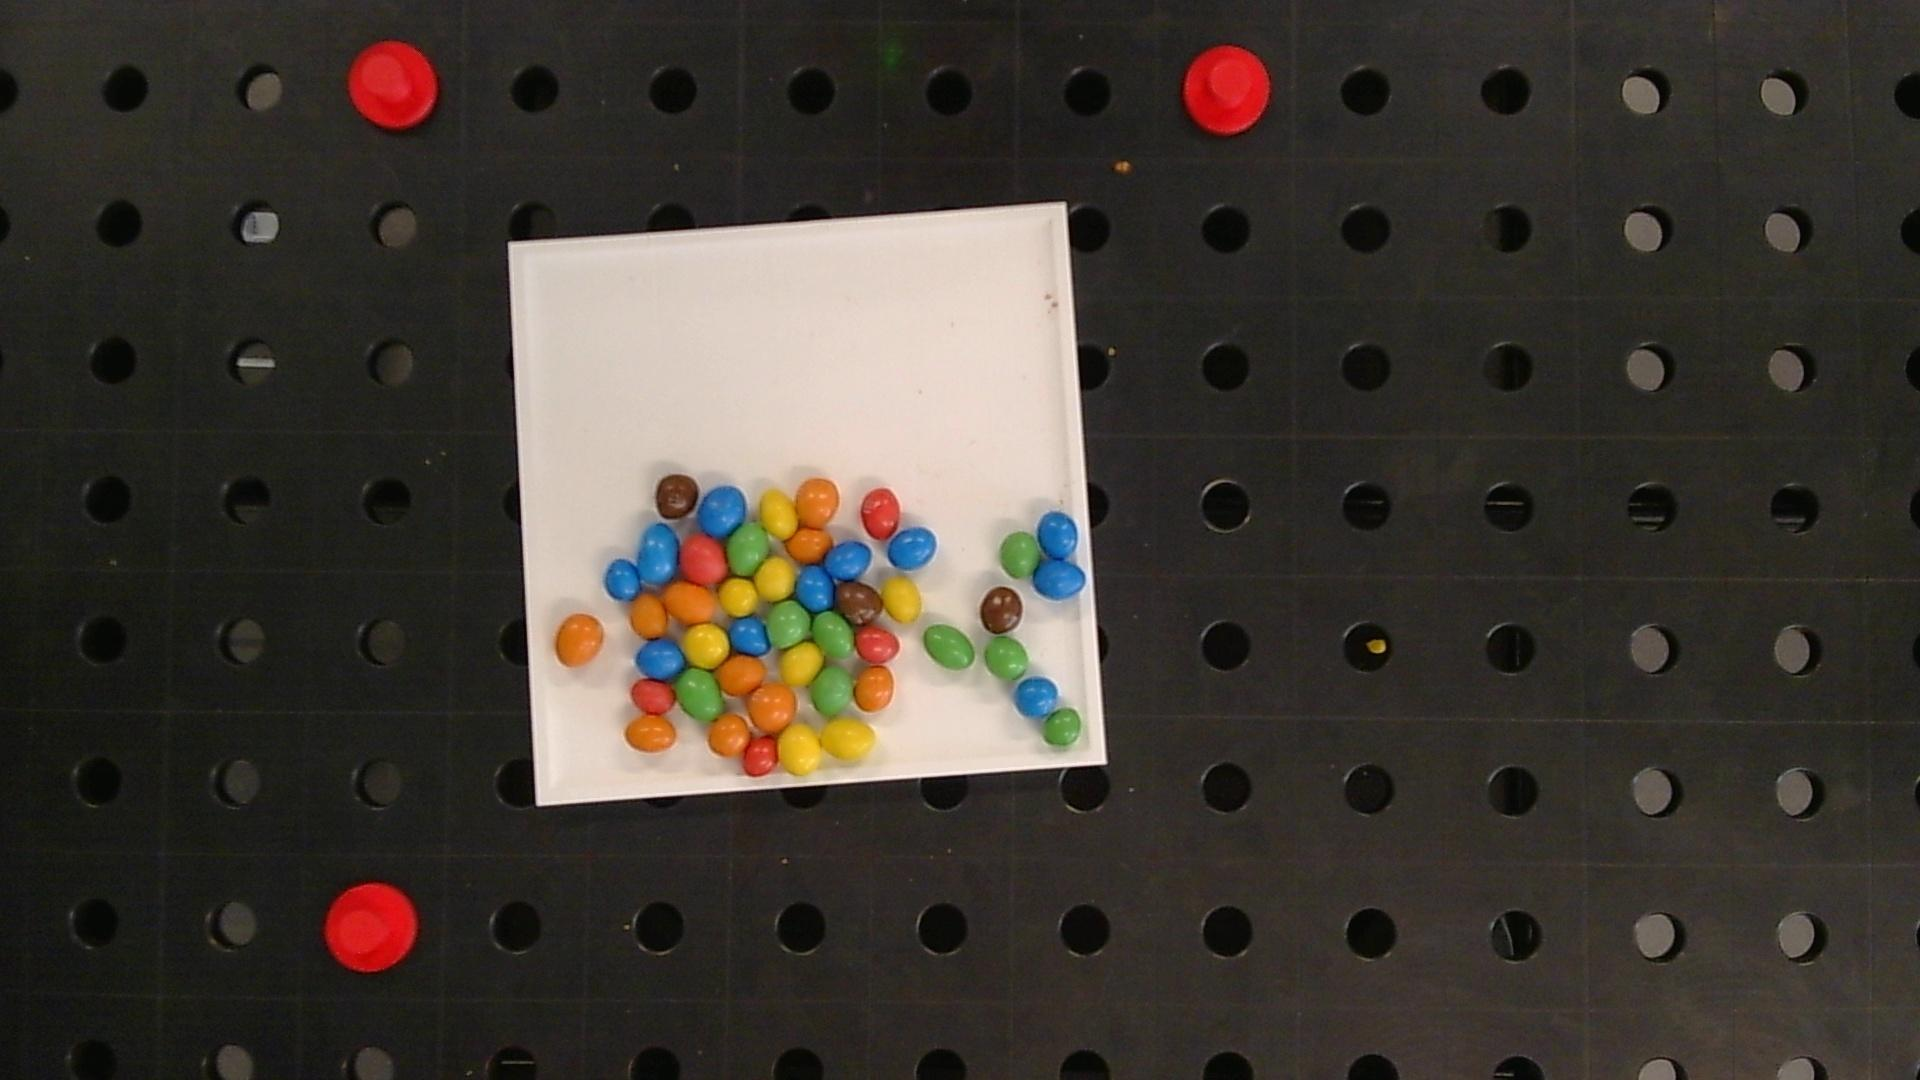blue: (638, 524, 679, 584), (698, 487, 746, 535), (1033, 559, 1087, 599), (887, 527, 936, 570), (1038, 512, 1079, 560), (637, 638, 684, 678), (1014, 678, 1059, 717), (827, 541, 870, 579), (796, 567, 833, 609), (604, 558, 640, 600), (731, 617, 769, 654)
brown: (980, 585, 1023, 634), (655, 473, 699, 518), (836, 582, 882, 624)
green: (923, 624, 976, 670), (676, 669, 721, 720), (727, 522, 769, 575), (767, 601, 811, 647), (812, 611, 853, 658), (812, 667, 853, 715), (1000, 531, 1040, 578), (985, 638, 1029, 680), (1043, 708, 1083, 748)
orange: (555, 613, 604, 666), (748, 683, 795, 733), (795, 477, 840, 526), (665, 582, 715, 622), (717, 655, 765, 695), (625, 716, 676, 752), (708, 715, 750, 756), (855, 667, 894, 711), (786, 529, 832, 562), (632, 595, 666, 638)
red: (680, 533, 728, 584), (861, 488, 899, 539), (856, 628, 899, 663), (632, 679, 675, 713), (742, 737, 778, 775)
yellow: (820, 719, 876, 760), (778, 724, 822, 774), (684, 624, 729, 667), (760, 489, 798, 539), (779, 644, 823, 686), (882, 578, 922, 622), (756, 558, 796, 599), (720, 579, 757, 615)
